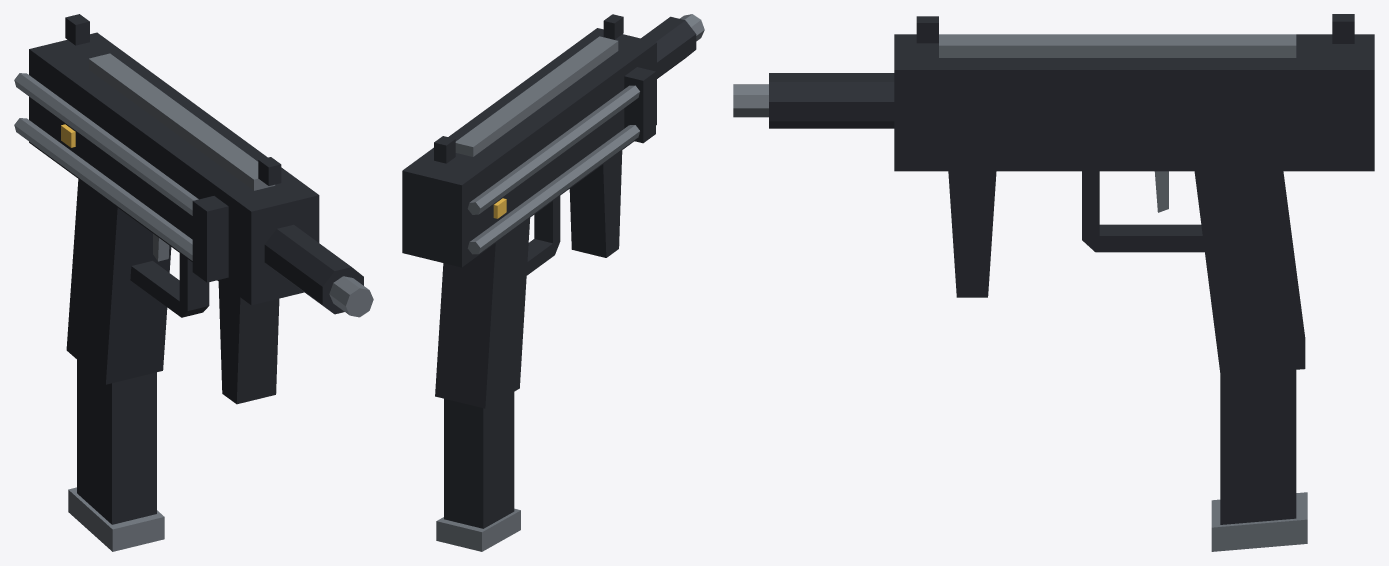
The model's file is compact_smg.glb.
3 views of the same model, side by side, from view 1: azimuth 30°, elevation 25°; view 2: azimuth 150°, elevation 25°; view 3: azimuth 270°, elevation 25° (orthographic). The views are drawn at different scales.
Visible parts, largest first — view 1: compact_smg_mesh; view 2: compact_smg_mesh; view 3: compact_smg_mesh.
Part boxes in pixels (bbox=[...]): compact_smg_mesh: bbox=[14, 14, 373, 551]; compact_smg_mesh: bbox=[402, 14, 704, 551]; compact_smg_mesh: bbox=[733, 14, 1374, 551].
Bounding box in the file's own units: 0.05 × 0.257 × 0.287.
1 material, 1 textured.
